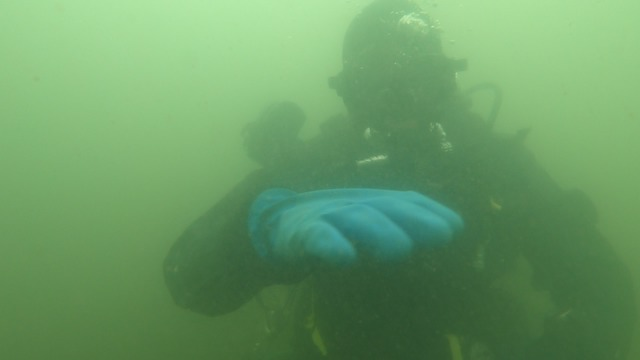Diver: (144, 4, 632, 349)
Hand: (235, 161, 475, 301)
Head: (324, 4, 500, 179)
